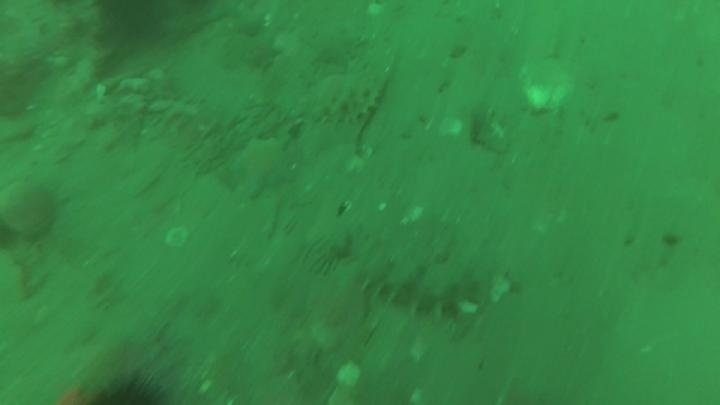echinus: (92, 1, 172, 48), (81, 368, 171, 405)
holothurian: (353, 251, 496, 320), (312, 77, 389, 129)
scallop: (1, 180, 63, 244), (516, 57, 576, 116)
starfish: (222, 135, 298, 201), (240, 32, 285, 75)
